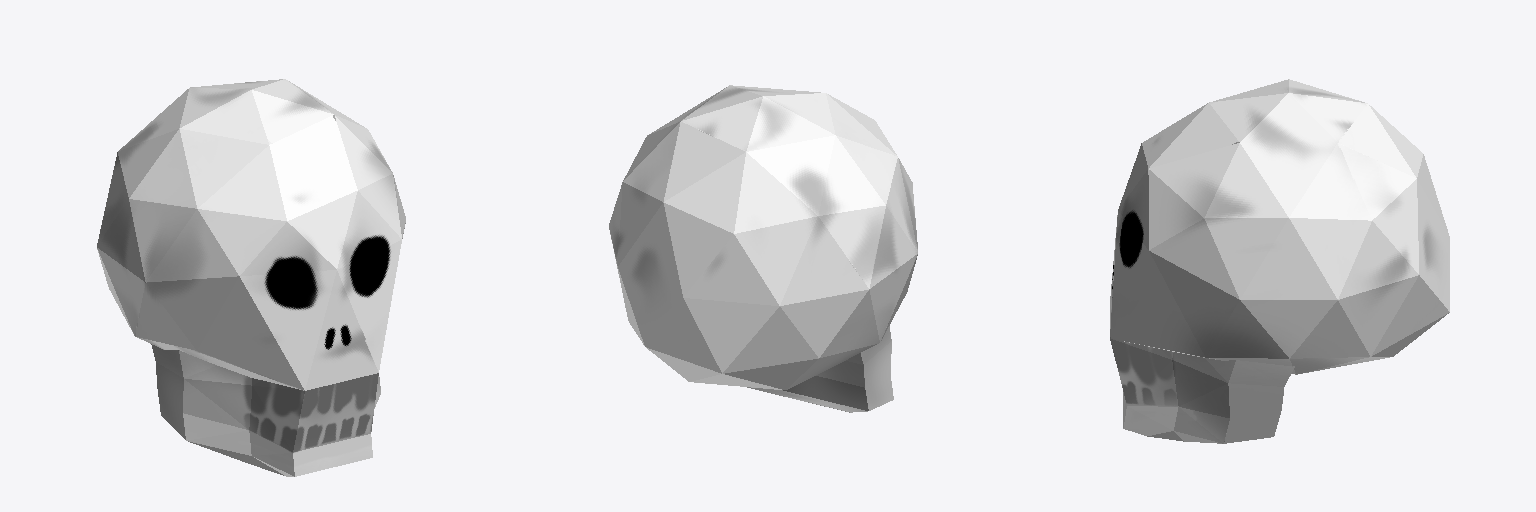
3 renders of one model, left to right at view 1: azimuth 30°, elevation 25°; view 2: azimuth 150°, elevation 25°; view 3: azimuth 270°, elevation 25°, orthographic.
Visible parts, largest first — view 1: Icosphere, Cube; view 2: Icosphere, Cube; view 3: Icosphere, Cube.
Part boxes in pixels (bbox=[...]): Icosphere: bbox=[97, 79, 405, 390]; Cube: bbox=[151, 344, 380, 476]; Icosphere: bbox=[609, 85, 917, 389]; Cube: bbox=[747, 326, 893, 412]; Icosphere: bbox=[1110, 79, 1449, 374]; Cube: bbox=[1110, 339, 1294, 443].
Size of the model in its own units: 2.86 by 3.42 by 3.23.
Materials: 1 (1 with a texture image).